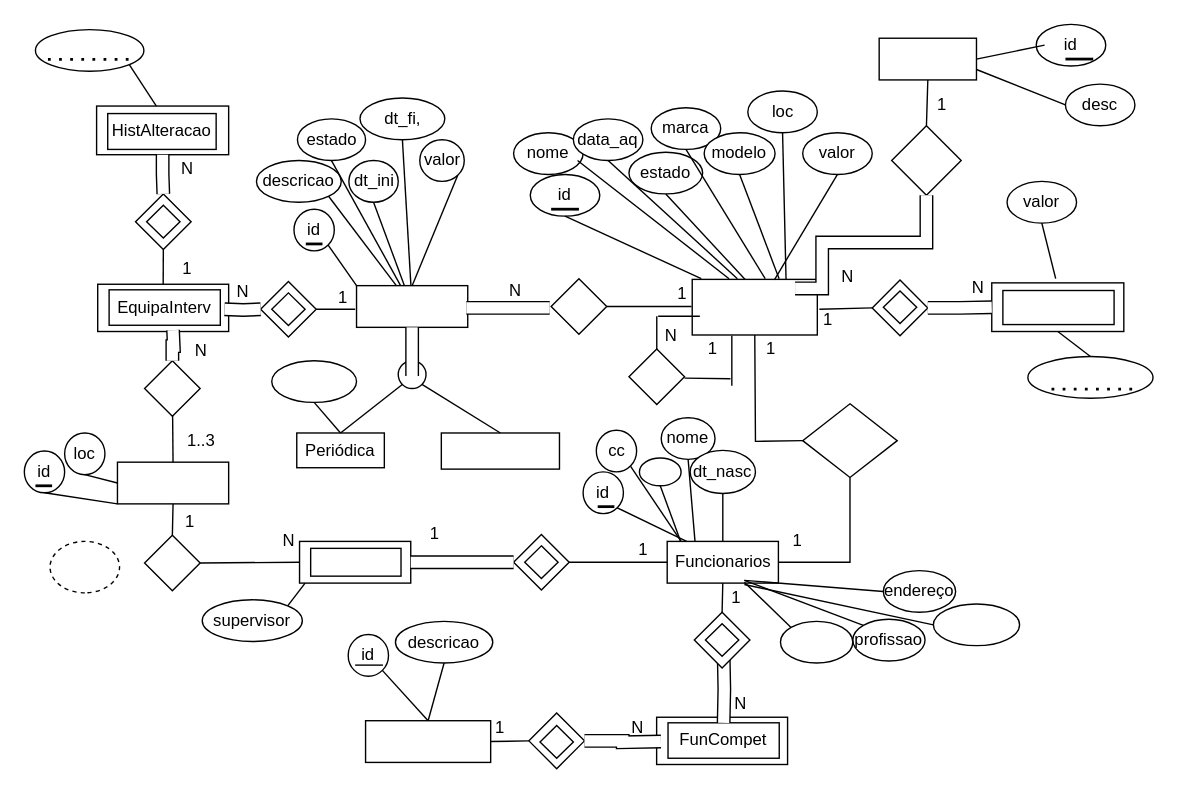
The diagram is 1177 pixels wide and 794 high, and some of its shapes have lost their labels. Here are the shapes that lost their labels. From the top down, the centre of each, then its label:
At (x=89, y=49): "dtAtualizacao".
At (x=927, y=58): "Tipo".
At (x=411, y=305): "Interveção".
At (x=754, y=306): "ATIVOS".
At (x=1057, y=307): "HistóricoValor".
At (x=313, y=380): "meses".
At (x=1090, y=376): "dt_alteracao".
At (x=499, y=450): "Não Periódica".
At (x=849, y=439): "gere".
At (x=172, y=482): "Equipa".
At (x=659, y=471): "NIF".
At (x=84, y=566): "nFunc".
At (x=355, y=561): "EquipaFun".
At (x=816, y=641): "email".
At (x=976, y=624): "telef".
At (x=427, y=740): "Competencias".
